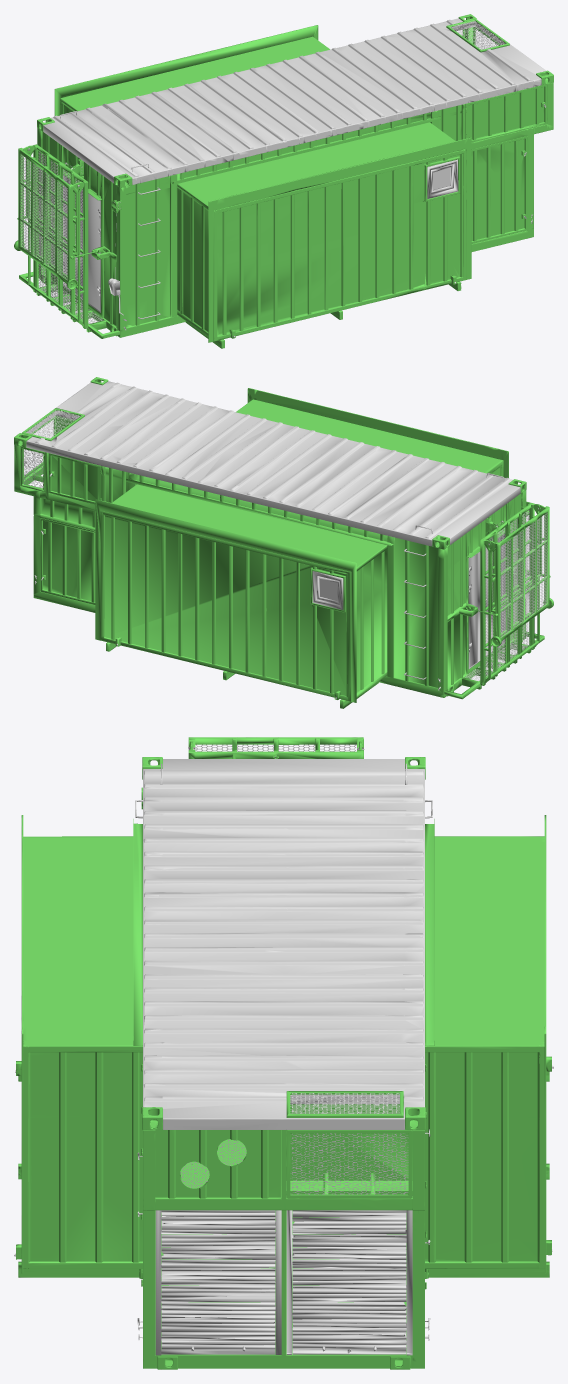
Rendered from cmprsd_klModel2.glb.
The picture shows the model from 3 angles, top to bottom: view 1: azimuth 30°, elevation 25°; view 2: azimuth 150°, elevation 25°; view 3: azimuth 270°, elevation 25°; orthographic projection. The views are drawn at different scales.
Parts seen in each view (by area): view 1: container, mesh; view 2: container, mesh; view 3: container, mesh.
Part boxes in pixels (x1,y1,x2,y2): container: (14,14,553,348); mesh: (20,21,545,337); container: (14,377,553,708); mesh: (23,410,547,698); container: (16,737,551,1369); mesh: (14,744,553,1355).
Size of the model in its own units: 0.0822 by 0.0271 by 0.0477.
